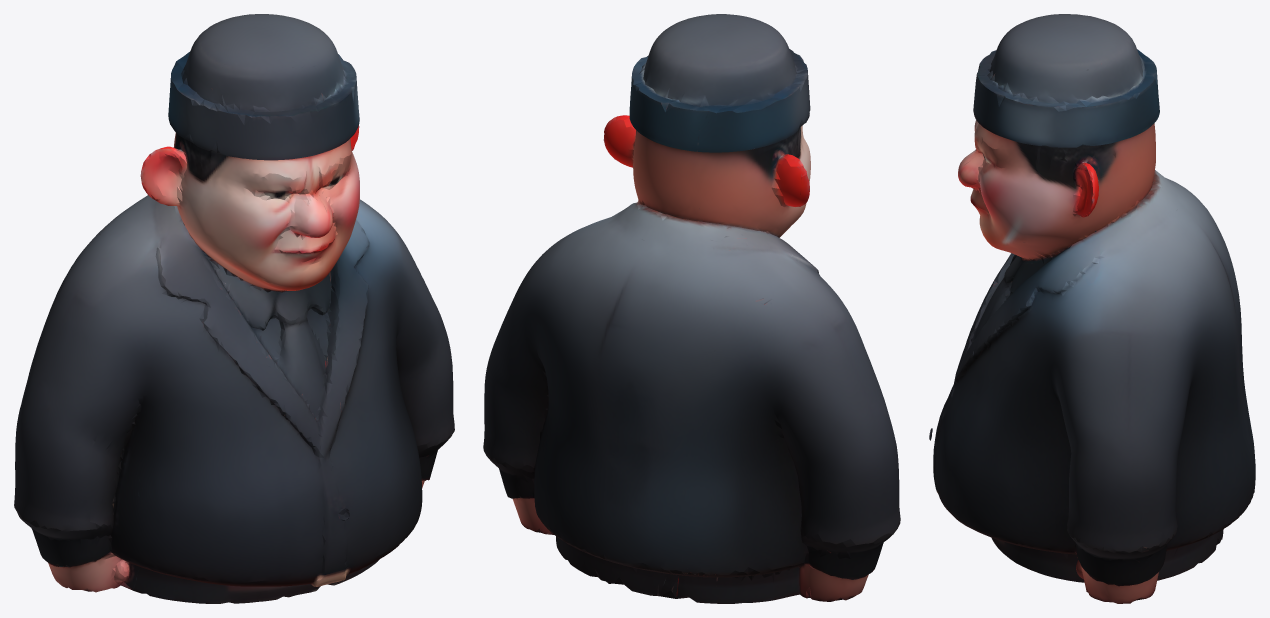
The model's file is prabowo_rodin.glb.
3 views of the same model, side by side, from view 1: azimuth 30°, elevation 25°; view 2: azimuth 150°, elevation 25°; view 3: azimuth 270°, elevation 25° (orthographic). The views are drawn at different scales.
Parts seen in each view (by area): view 1: Prabowo_Head_Rodin; view 2: Prabowo_Head_Rodin; view 3: Prabowo_Head_Rodin.
Part boxes in pixels (bbox=[...]): Prabowo_Head_Rodin: bbox=[14, 14, 454, 603]; Prabowo_Head_Rodin: bbox=[483, 14, 900, 603]; Prabowo_Head_Rodin: bbox=[929, 14, 1255, 603].
Size of the model in its own units: 1.58 by 1.9 by 1.13.
1 material, 1 textured.
